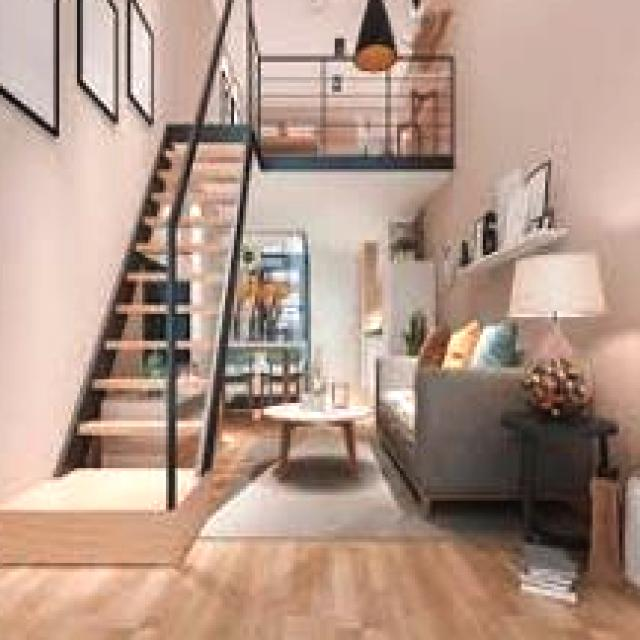upstair: (55, 297, 218, 469)
